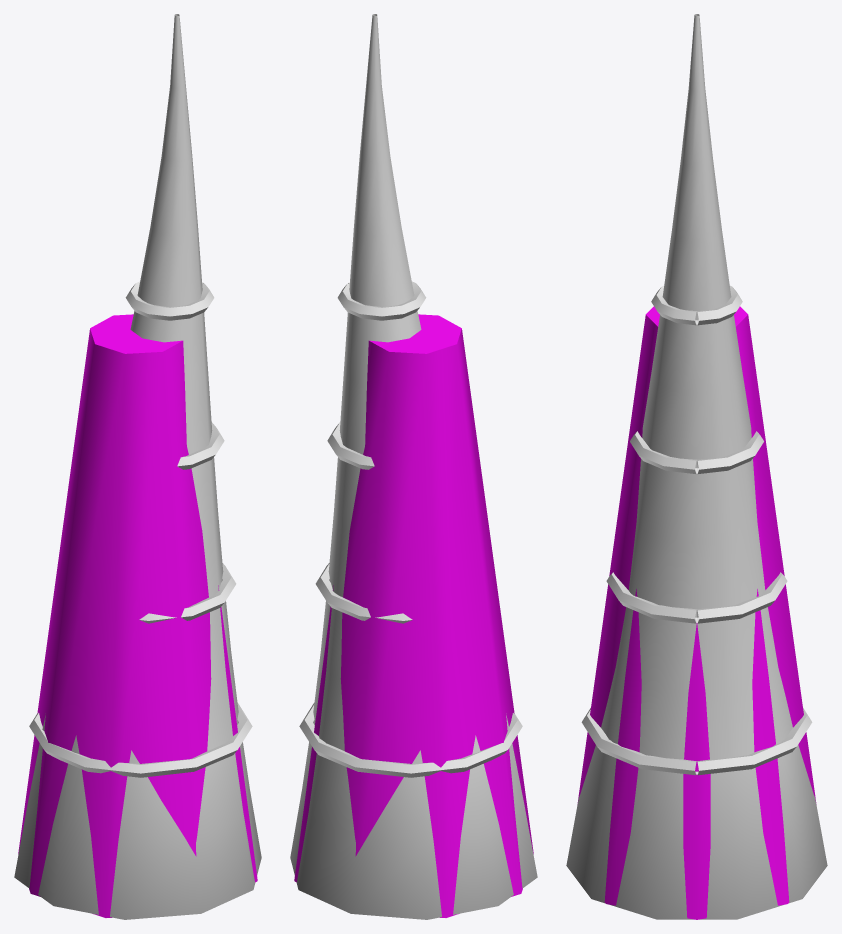
Rendered from shell_spire.glb.
3 renders of one model, left to right at view 1: azimuth 30°, elevation 25°; view 2: azimuth 150°, elevation 25°; view 3: azimuth 270°, elevation 25°, orthographic. The views are drawn at different scales.
Parts seen in each view (by area): view 1: shell_spire_hull, shell_spire; view 2: shell_spire_hull, shell_spire; view 3: shell_spire, shell_spire_hull.
Boxes of the visible parts, box(x1,y1,x2,y2) form: shell_spire_hull: box(18, 314, 257, 917); shell_spire: box(14, 14, 261, 919); shell_spire_hull: box(294, 314, 533, 917); shell_spire: box(290, 14, 537, 919); shell_spire: box(566, 14, 827, 919); shell_spire_hull: box(577, 306, 816, 919).
Bounding box in the file's own units: 4 × 15.02 × 4.08.
